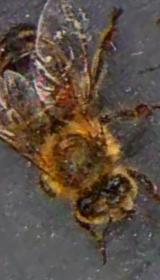varroa_mite: (48, 78, 80, 111)
